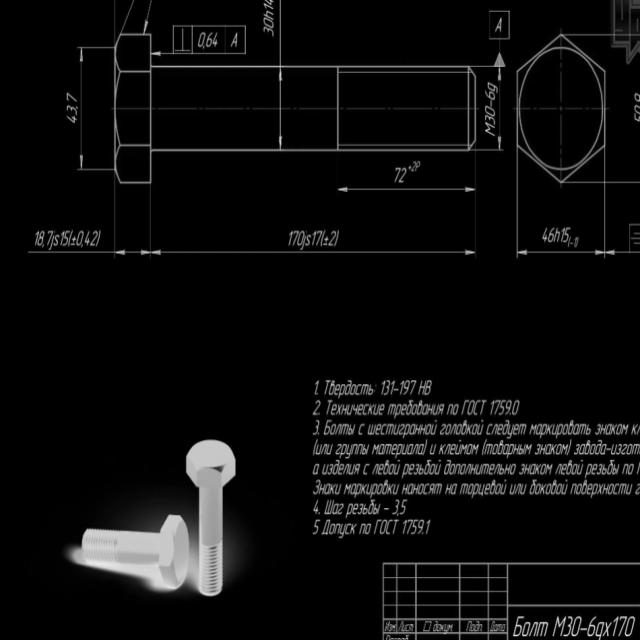marking_line: (151, 248, 475, 257), (338, 182, 475, 193), (77, 48, 85, 168), (151, 51, 250, 60), (495, 67, 505, 146), (517, 249, 602, 256), (277, 69, 284, 147), (114, 249, 149, 256), (605, 251, 640, 256)
numeric: (394, 159, 425, 185), (480, 81, 498, 123), (542, 226, 569, 244), (33, 228, 56, 248), (63, 91, 76, 126), (76, 228, 98, 248), (198, 31, 220, 50), (286, 227, 304, 248), (633, 87, 640, 125), (59, 230, 72, 250), (312, 230, 323, 248)
